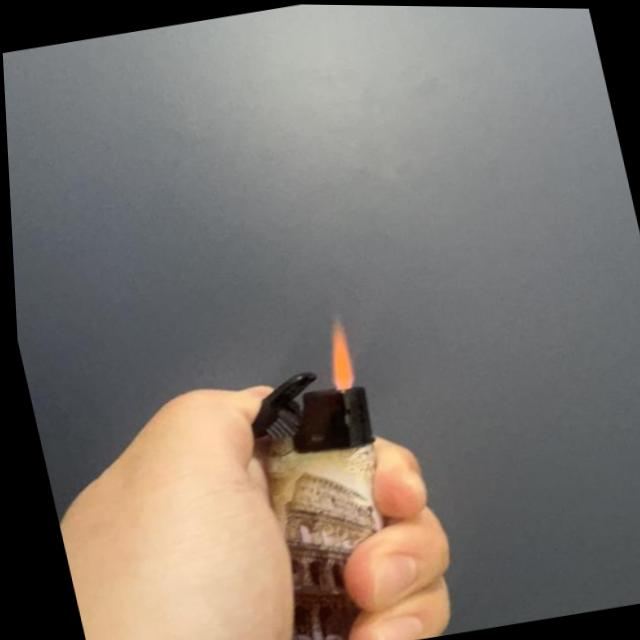Fire: (310, 312, 355, 390)
